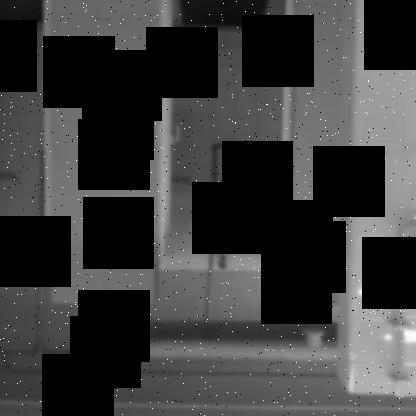Porte: (160, 1, 294, 268)
